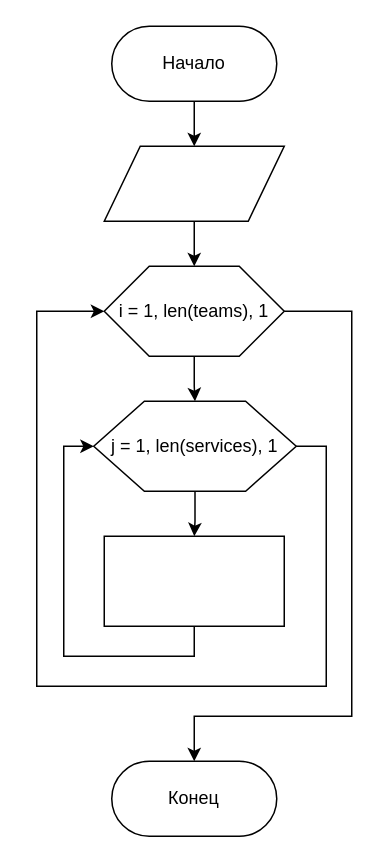
The diagram is 390 pixels wide and 863 high, and some of its shapes have lost their labels. The shapes that lost their labels are listed below. From the top down, each one's centre as x and y in pixels, then its label:
At point 193,183: "Ввод db, teams, services".
At point 193,580: "Запуск нового потока, выполнение в нем to_service".
